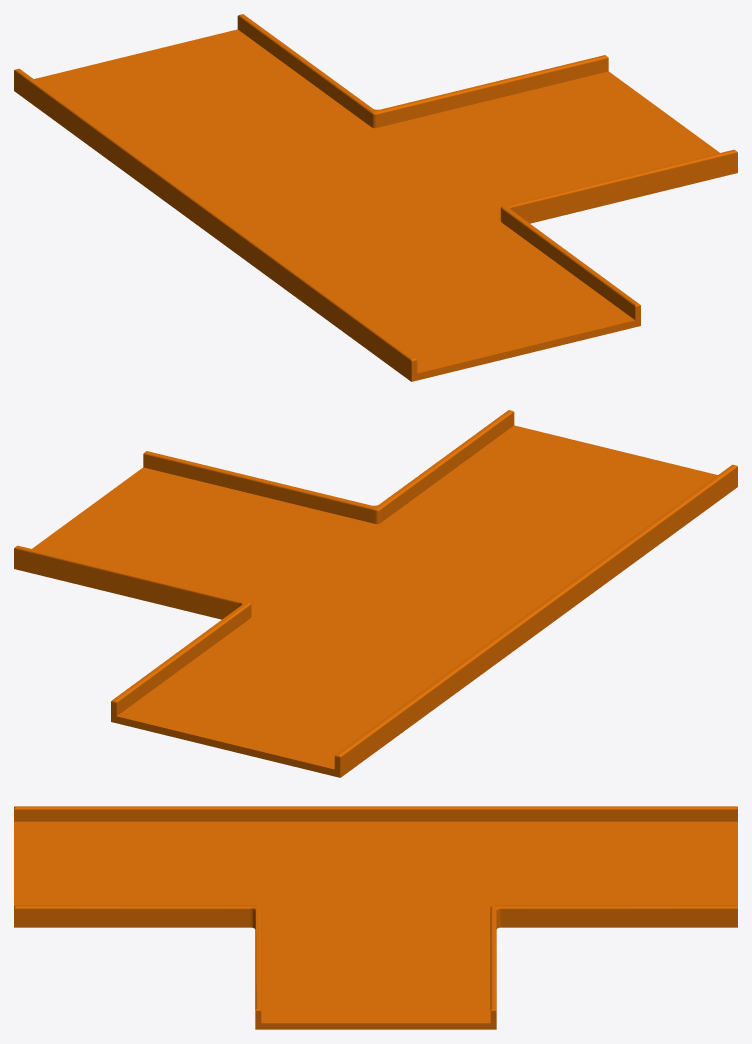
The model's file is Track3WayIntersection.fbx.
3 renders of one model, top to bottom at view 1: azimuth 30°, elevation 25°; view 2: azimuth 150°, elevation 25°; view 3: azimuth 270°, elevation 25°, orthographic. The views are drawn at different scales.
Visible parts, largest first — view 1: Track3WayIntersection; view 2: Track3WayIntersection; view 3: Track3WayIntersection.
Boxes of the visible parts, <box> form: Track3WayIntersection: <box>14,14,737,381</box>; Track3WayIntersection: <box>14,410,737,777</box>; Track3WayIntersection: <box>14,806,737,1029</box>.
Size of the model in its own units: 400 by 18.16 by 600.
